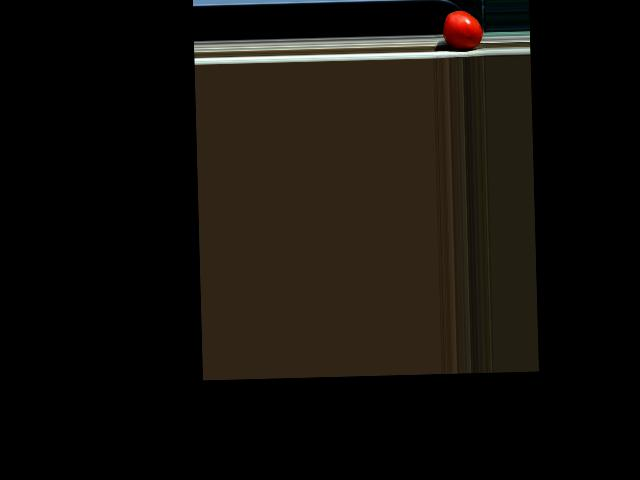tomato: (442, 9, 482, 49)
